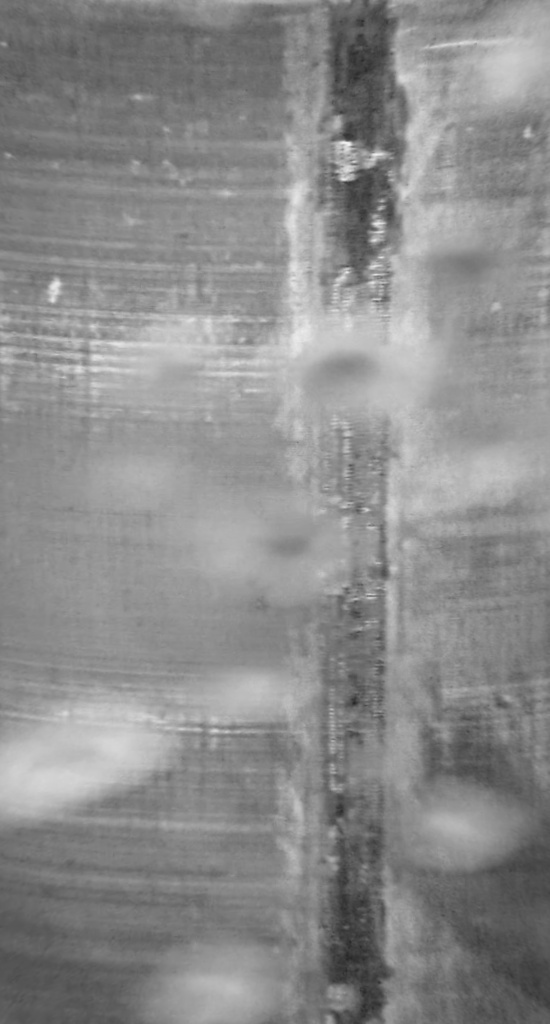splice: (303, 1, 406, 1024)
